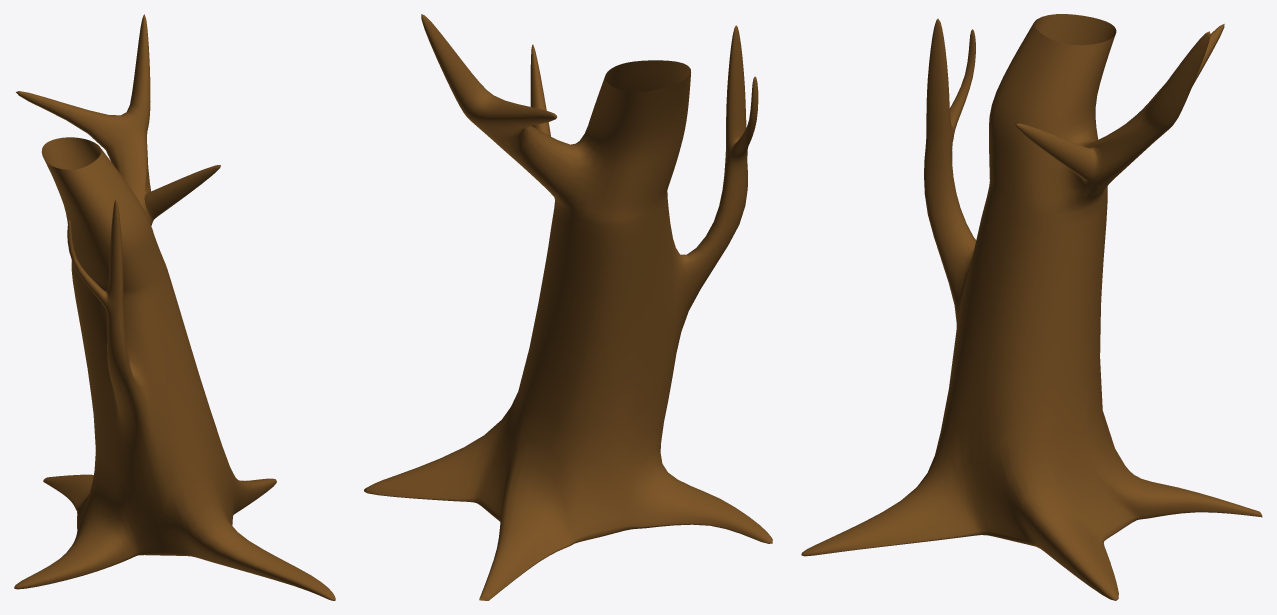
File: tree_1.fbx
The picture shows the model from 3 angles, left to right: view 1: azimuth 30°, elevation 25°; view 2: azimuth 150°, elevation 25°; view 3: azimuth 270°, elevation 25°; orthographic projection. The views are drawn at different scales.
Parts seen in each view (by area): view 1: pCylinder4; view 2: pCylinder4; view 3: pCylinder4.
Part boxes in pixels (left/top/right/bottom): pCylinder4: left=14, top=14, right=335, bottom=600; pCylinder4: left=364, top=14, right=772, bottom=600; pCylinder4: left=801, top=14, right=1262, bottom=600.
Bounding box in the file's own units: 396 × 576 × 457.
